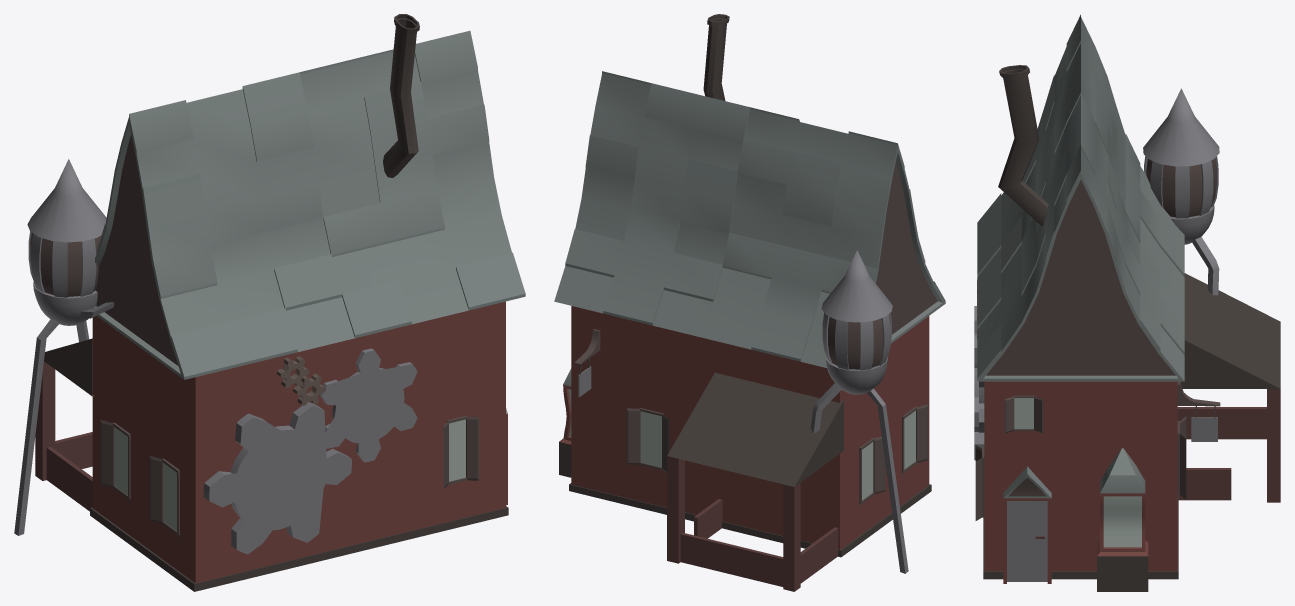
The model's file is house_with_Stable.fbx.
The picture shows the model from 3 angles, left to right: view 1: azimuth 30°, elevation 25°; view 2: azimuth 150°, elevation 25°; view 3: azimuth 270°, elevation 25°; orthographic projection. The views are drawn at different scales.
Visible parts, largest first — view 1: Simple residents house; view 2: Simple residents house; view 3: Simple residents house.
Part boxes in pixels (x1,y1,x2,y2): Simple residents house: [14, 14, 525, 591]; Simple residents house: [554, 14, 945, 591]; Simple residents house: [974, 14, 1280, 591].
Bounding box in the file's own units: 1178 × 1360 × 800.
1 material, 1 textured.
